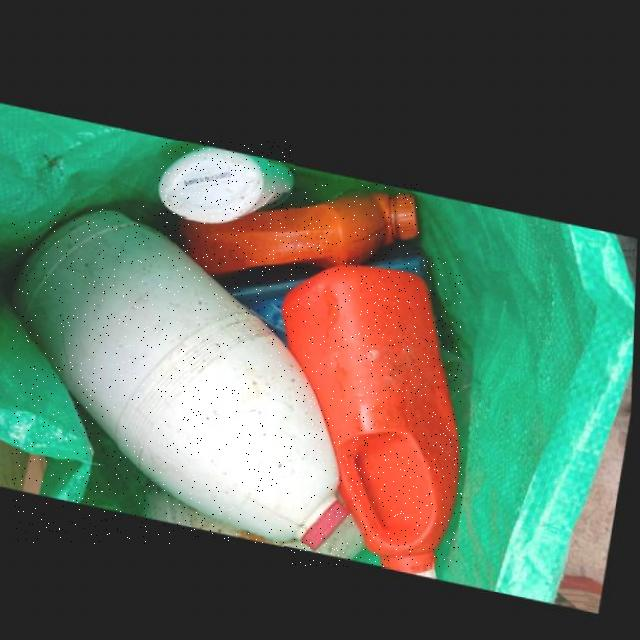plastic: (13, 206, 350, 544), (284, 256, 463, 568), (174, 185, 419, 270), (159, 141, 295, 218)
